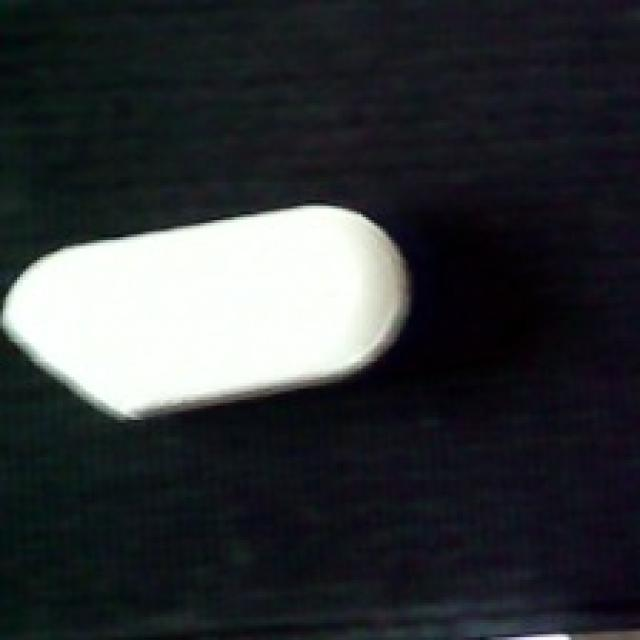defected: (0, 199, 414, 425)
